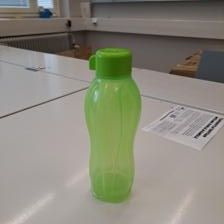bottle: (85, 46, 140, 203)
